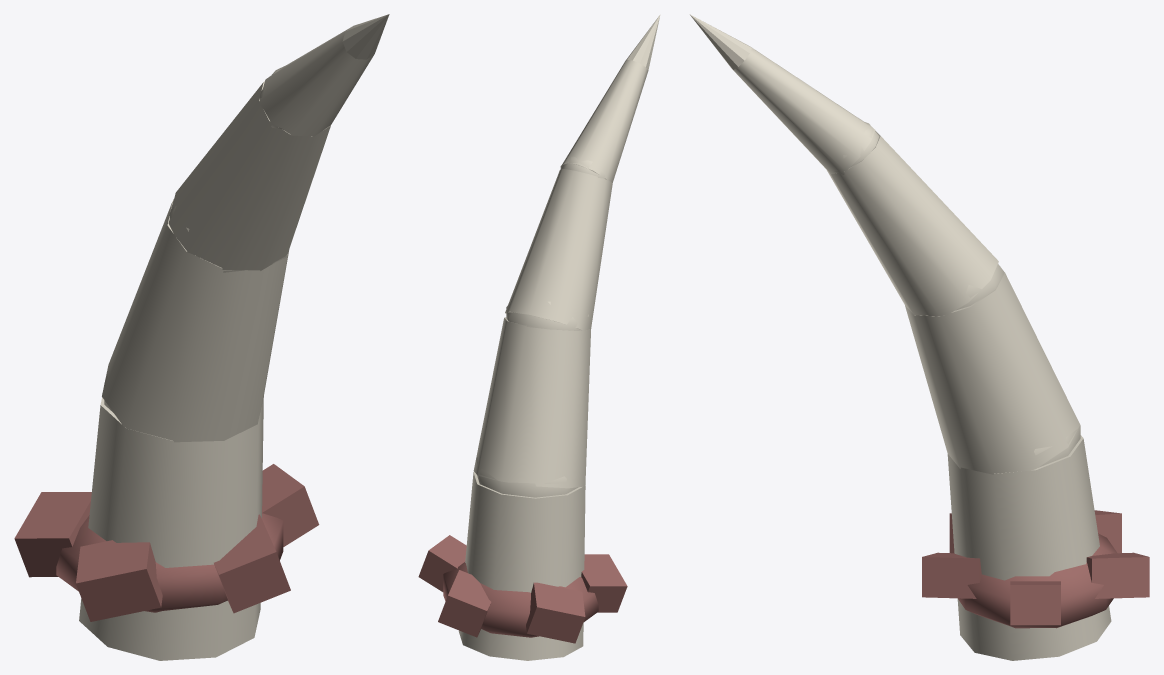
Rendered from maw_tooth.glb.
3 renders of one model, left to right at view 1: azimuth 30°, elevation 25°; view 2: azimuth 150°, elevation 25°; view 3: azimuth 270°, elevation 25°, orthographic. The views are drawn at different scales.
Parts seen in each view (by area): view 1: fang, fangroot; view 2: fang, fangroot; view 3: fang, fangroot.
Part boxes in pixels (x1=…): fang: x1=79, y1=14, x2=389, y2=660; fangroot: x1=14, y1=464, x2=319, y2=621; fang: x1=458, y1=14, x2=660, y2=660; fangroot: x1=418, y1=535, x2=627, y2=643; fang: x1=689, y1=14, x2=1111, y2=660; fangroot: x1=922, y1=510, x2=1149, y2=628.
Bounding box in the file's own units: 4.83 × 13.59 × 9.08.
